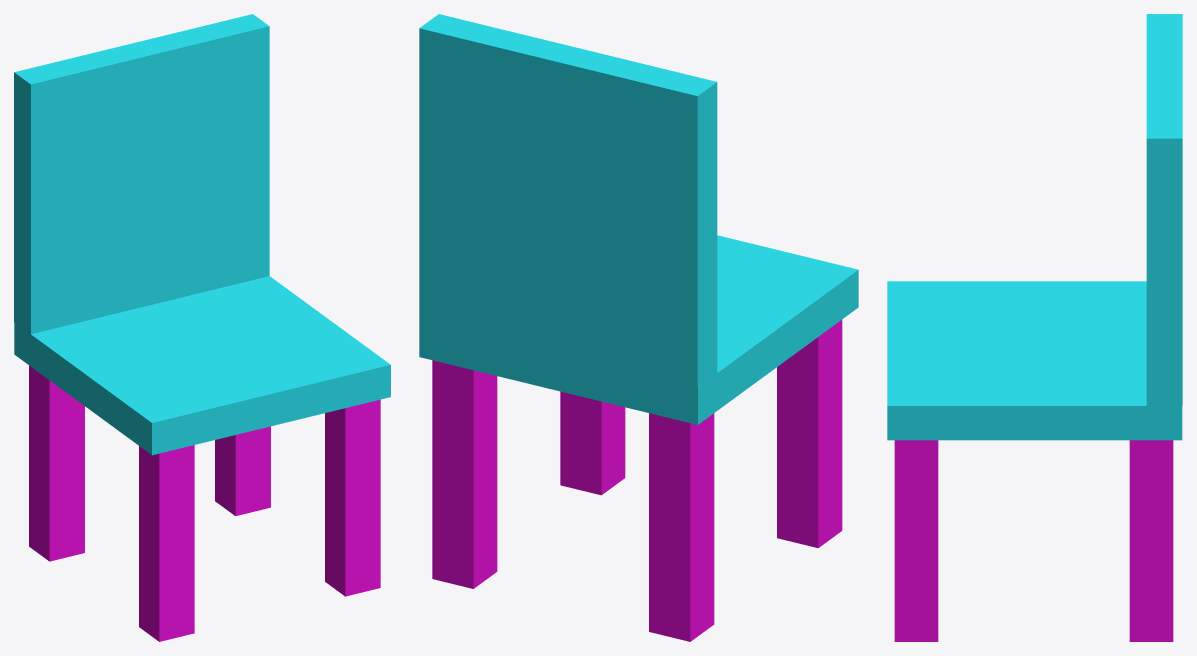
File: Chair.gltf
3 views of the same model, side by side, from view 1: azimuth 30°, elevation 25°; view 2: azimuth 150°, elevation 25°; view 3: azimuth 270°, elevation 25° (orthographic). The views are drawn at different scales.
Visible parts, largest first — view 1: Chair; view 2: Chair; view 3: Chair.
Part boxes in pixels (box(x1,y1,x2,y2)): Chair: box(14, 14, 390, 641); Chair: box(419, 14, 858, 641); Chair: box(887, 14, 1182, 641).
Bounding box in the file's own units: 0.1011 × 0.1917 × 0.1012.
